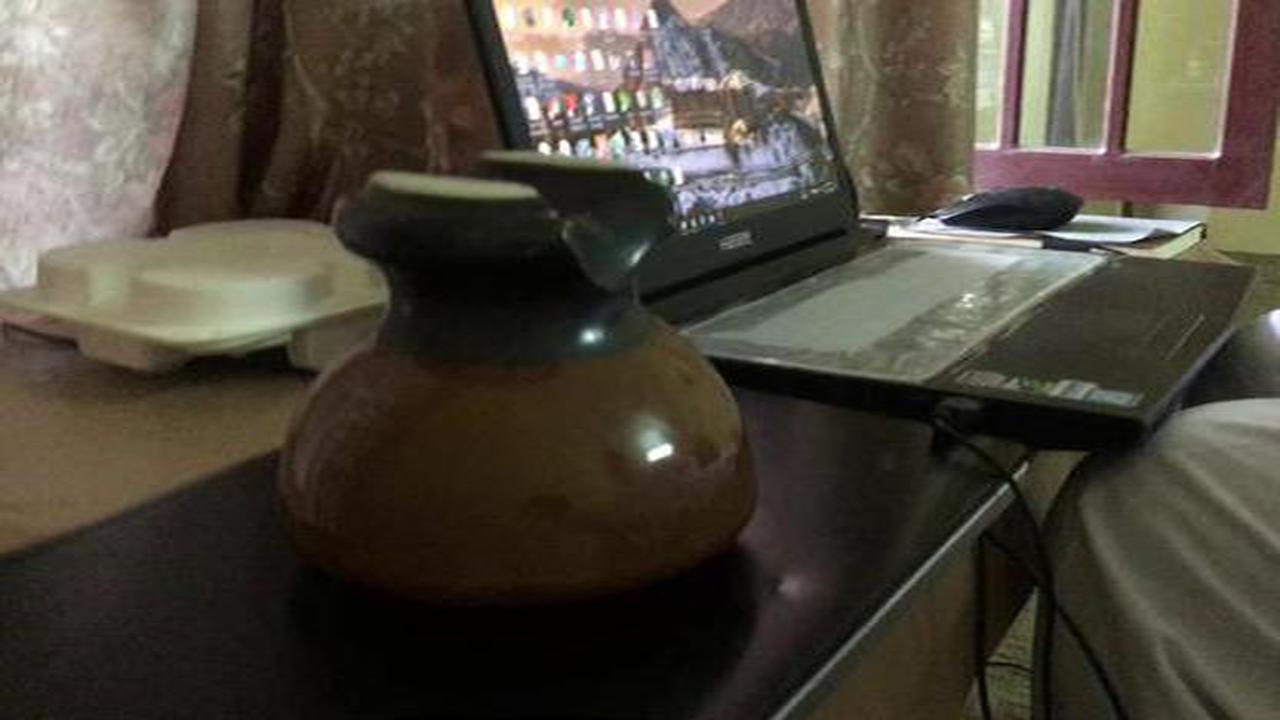insulator_pin: (253, 129, 767, 622)
